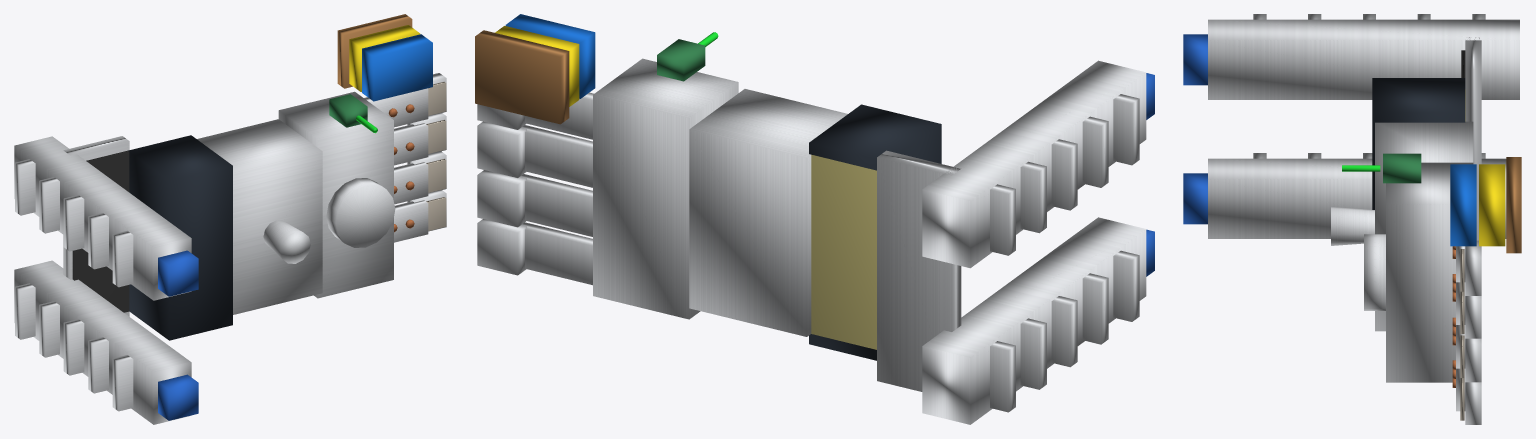
The model's file is egg_separation_mill.obj.
3 views of the same model, side by side, from view 1: azimuth 30°, elevation 25°; view 2: azimuth 150°, elevation 25°; view 3: azimuth 270°, elevation 25° (orthographic). The views are drawn at different scales.
Size of the model in its own units: 4.99 by 2.4 by 3.09.
Materials: 13 (3 with a texture image).
